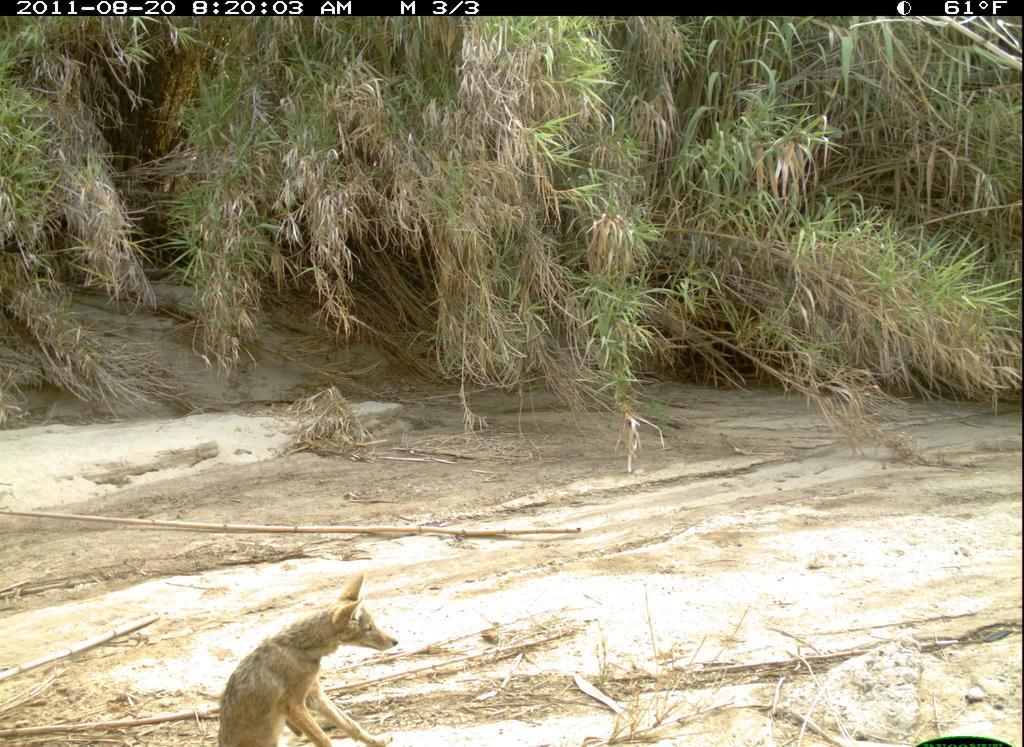coyote: (221, 579, 404, 745)
